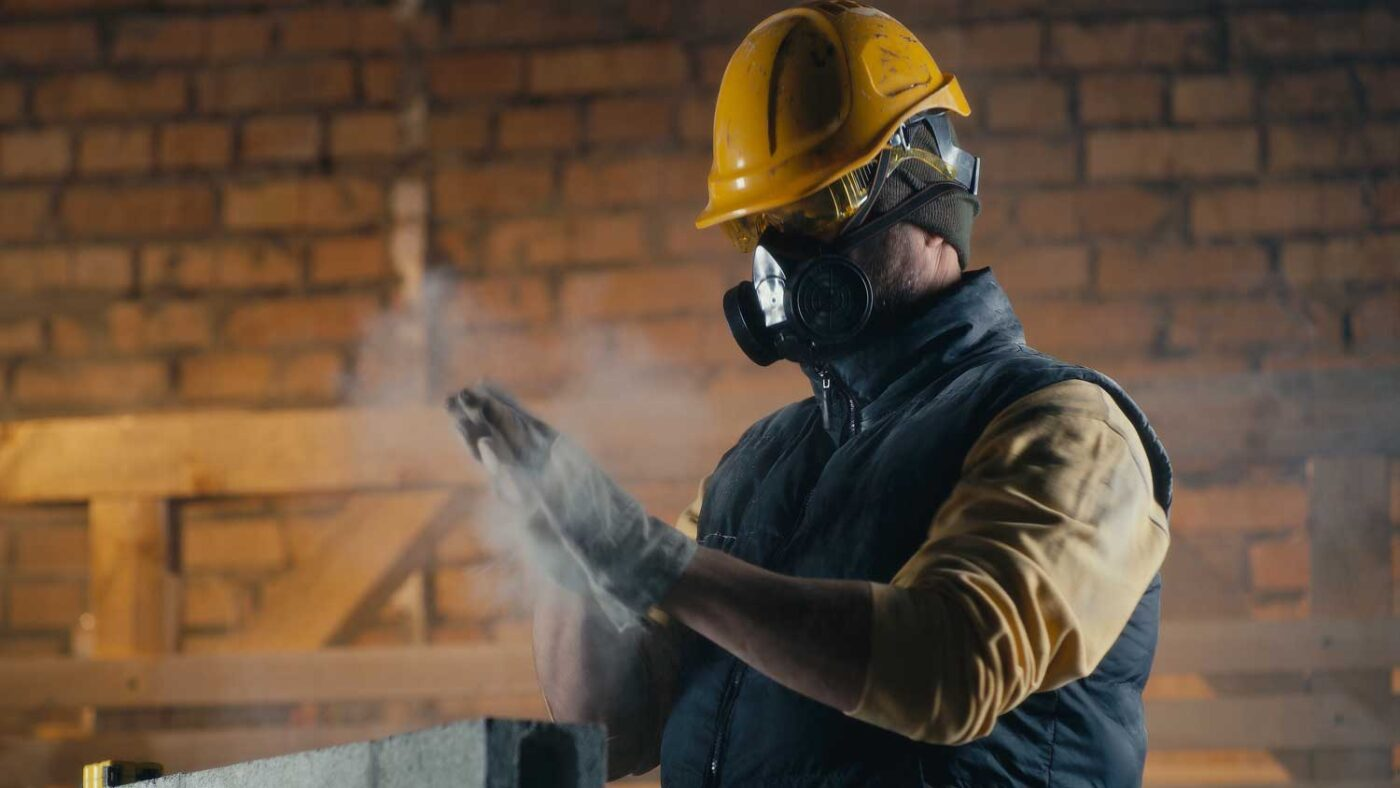Helmet: (686, 1, 985, 245)
Mask: (717, 233, 883, 376)
